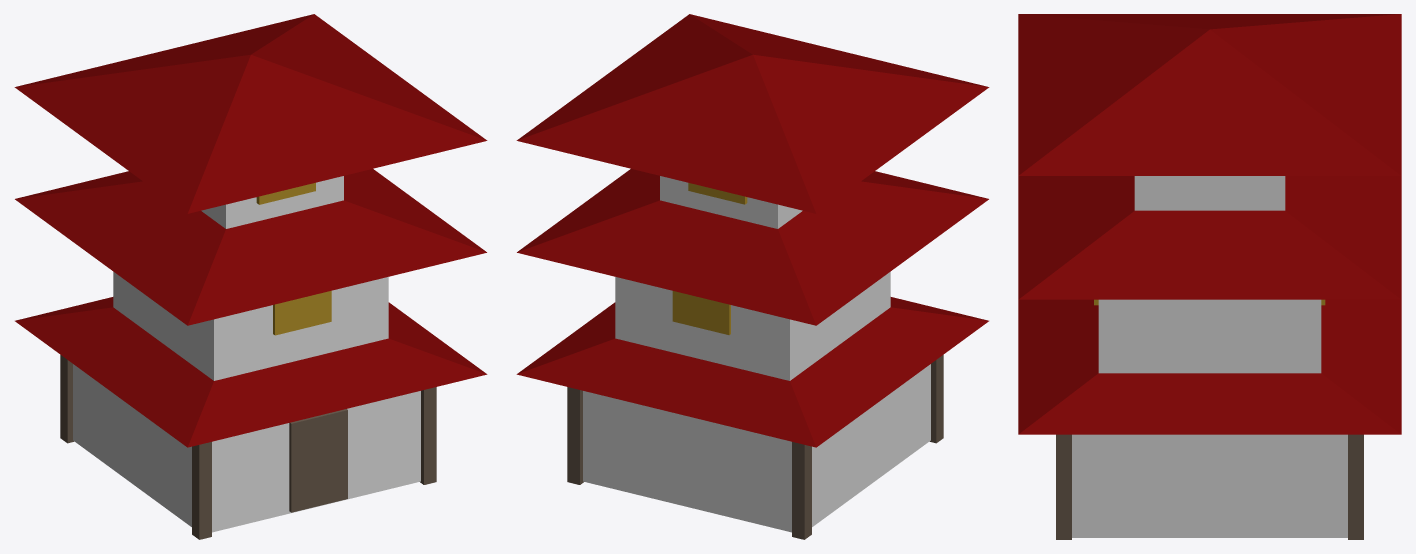
The model's file is House D.fbx.
3 views of the same model, side by side, from view 1: azimuth 30°, elevation 25°; view 2: azimuth 150°, elevation 25°; view 3: azimuth 270°, elevation 25° (orthographic). The views are drawn at different scales.
Visible parts, largest first — view 1: pCone3, pCone2, pCone4, pCube1, pCube2, pCube4, pCube3, pCube6, pCube9, pCube5, pCube7; view 2: pCone3, pCone2, pCone4, pCube1, pCube2, pCube3, pCube7, pCube12, pCube8, pCube6; view 3: pCone3, pCone2, pCone4, pCube1, pCube2, pCube3, pCube5, pCube8.
Part boxes in pixels (x1=…): pCone3: x1=14, y1=14, x2=487, y2=213; pCone2: x1=15, y1=169, x2=486, y2=325; pCone4: x1=15, y1=297, x2=487, y2=447; pCube1: x1=73, y1=364, x2=420, y2=532; pCube2: x1=113, y1=272, x2=388, y2=380; pCube4: x1=289, y1=409, x2=347, y2=512; pCube3: x1=201, y1=176, x2=343, y2=228; pCube6: x1=192, y1=442, x2=211, y2=539; pCube9: x1=273, y1=290, x2=331, y2=335; pCube5: x1=420, y1=387, x2=436, y2=484; pCube7: x1=60, y1=355, x2=74, y2=443; pCone3: x1=516, y1=14, x2=989, y2=213; pCone2: x1=517, y1=169, x2=988, y2=325; pCone4: x1=516, y1=297, x2=988, y2=447; pCube1: x1=583, y1=364, x2=930, y2=532; pCube2: x1=615, y1=272, x2=890, y2=380; pCube3: x1=660, y1=176, x2=802, y2=228; pCube7: x1=792, y1=442, x2=811, y2=539; pCube12: x1=672, y1=291, x2=730, y2=334; pCube8: x1=567, y1=387, x2=583, y2=484; pCube6: x1=929, y1=355, x2=943, y2=443; pCone3: x1=1018, y1=14, x2=1401, y2=175; pCone2: x1=1018, y1=176, x2=1401, y2=299; pCone4: x1=1018, y1=299, x2=1401, y2=434; pCube1: x1=1072, y1=434, x2=1347, y2=537; pCube2: x1=1098, y1=299, x2=1321, y2=373; pCube3: x1=1134, y1=176, x2=1285, y2=210; pCube5: x1=1056, y1=434, x2=1071, y2=539; pCube8: x1=1348, y1=434, x2=1363, y2=539.
Size of the model in its own units: 10.59 by 13.66 by 10.59.
